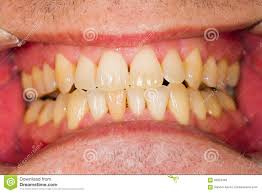normal: (95, 51, 129, 90), (131, 50, 164, 86), (72, 53, 96, 90), (160, 49, 185, 83), (146, 82, 166, 118), (85, 89, 106, 122), (129, 83, 144, 116)
yellow: (169, 81, 192, 124), (105, 88, 129, 121), (183, 49, 203, 88), (54, 55, 74, 92), (66, 89, 86, 124), (201, 90, 222, 119), (193, 84, 207, 123), (215, 92, 241, 112), (40, 62, 56, 94), (202, 55, 218, 87), (37, 103, 55, 130), (29, 67, 44, 96), (225, 60, 241, 87), (27, 100, 42, 127), (52, 95, 66, 122), (216, 59, 228, 88), (20, 72, 32, 95)
